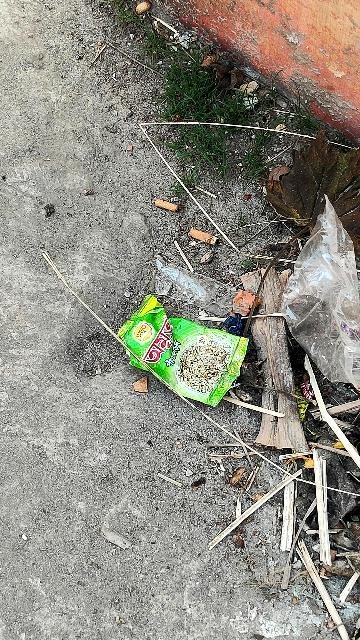packet: (101, 289, 256, 408)
